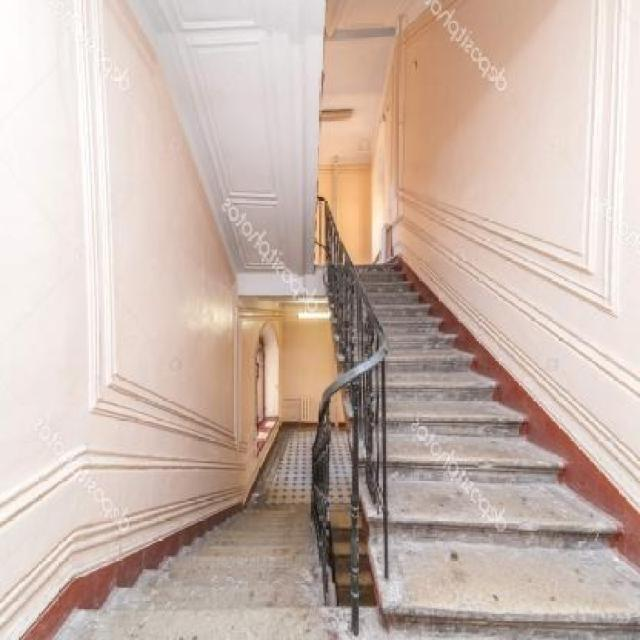stair: (20, 121, 640, 638)
